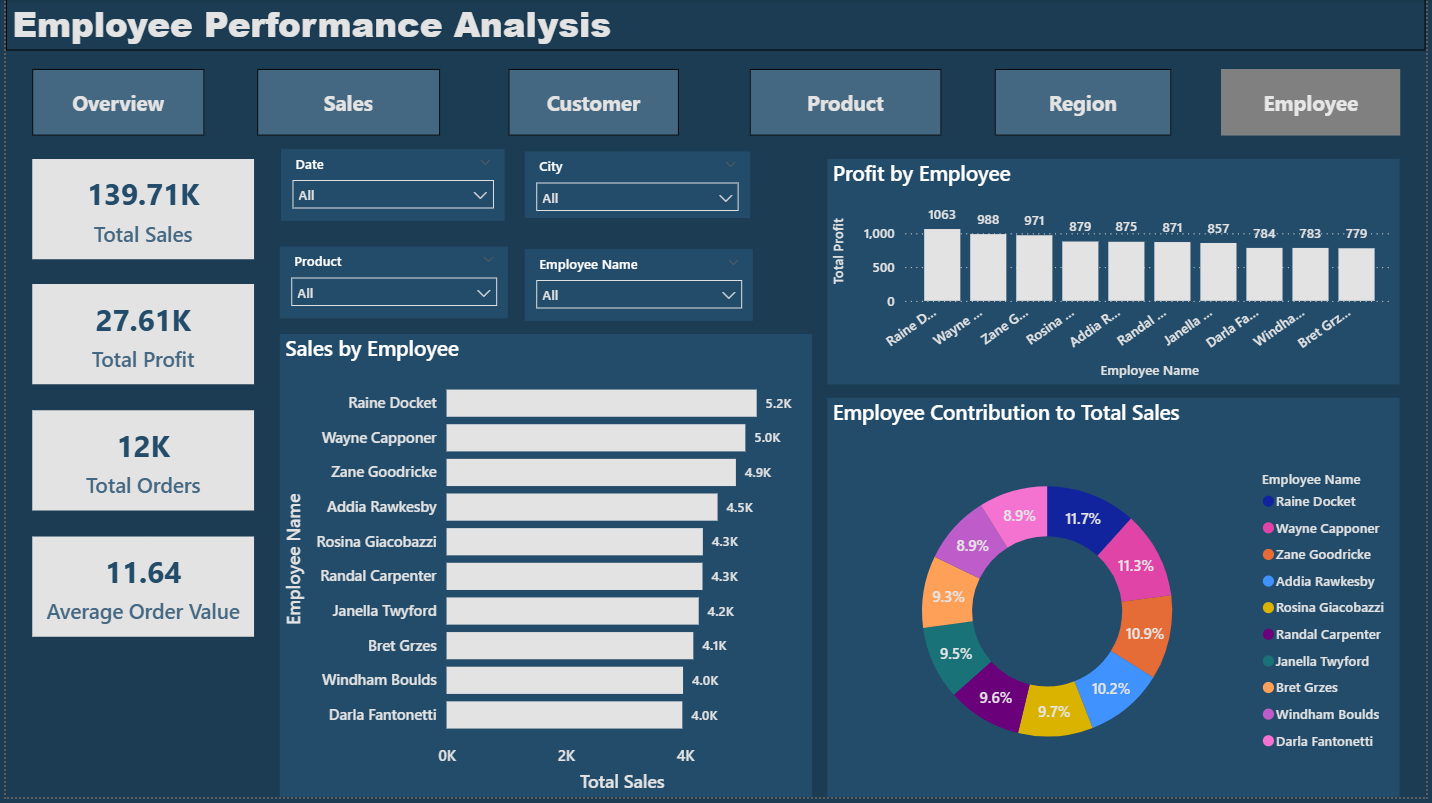

What the dashboard file says about the page in this screenshot:
{"tool":"powerbi","page":{"name":"Employee Dashboard","canvas":[1280,720],"ordinal":5},"visuals":[{"type":"actionButton","box":[226.4,63.1,164.7,60.4],"z":0},{"type":"actionButton","box":[452.8,63.1,153.7,60.4],"z":1000},{"type":"actionButton","box":[671,63.1,172.9,60.4],"z":2000},{"type":"actionButton","box":[891.9,63.1,159.2,60.4],"z":3000},{"type":"textbox","title":"Employee Performance Analysis","box":[0,0,1280.3,46.7],"z":4000},{"type":"card","fields":{"Values":["sales.Total Sales"]},"box":[23.3,144.1,200.3,90],"z":5000},{"type":"card","fields":{"Values":["sales.Total Orders"]},"box":[23.3,370.5,200.3,90.6],"z":6000},{"type":"card","fields":{"Values":["sales.Total Profit"]},"box":[23.3,256.6,200.3,90.6],"z":7000},{"type":"clusteredBarChart","title":"Sales by Employee","fields":{"Y":["sales.Total Sales"],"Category":["employee.name"]},"box":[247,301.9,480.3,418.5],"z":8000},{"type":"clusteredColumnChart","title":"Profit by Employee","fields":{"Y":["sales.Total Profit"],"Category":["employee.name"]},"box":[741,144.1,516,203.1],"z":9000},{"type":"actionButton","title":"Over","box":[23.2,63.6,155.3,59.9],"z":10000},{"type":"donutChart","title":"Employee Contribution to Total Sales","fields":{"Y":["sales.Total Sales"],"Category":["employee.name"]},"box":[741,359.5,516,360.9],"z":11000},{"type":"actionButton","box":[1095,63.1,161.9,60.4],"z":12000},{"type":"card","fields":{"Values":["sales.Average Order Value"]},"box":[23.3,484.4,200.3,90.6],"z":13000},{"type":"slicer","fields":{"Values":["sales.date"]},"box":[247.9,134.8,201.7,64.5],"z":14000},{"type":"slicer","fields":{"Values":["location.city"]},"box":[467.9,137.2,203.1,60.4],"z":15000},{"type":"slicer","fields":{"Values":["products.product"]},"box":[247,223.7,205.8,64.5],"z":16000},{"type":"slicer","fields":{"Values":["employee.name"]},"box":[467.9,225,205.8,64.5],"z":17000}]}

Visuals, with their boxes in screenshot pixels (x1, y1, x2, y2), scaled from the page's 1280x720 canvas onto the 1432x803 screenshot:
actionButton: 253:70:438:138
actionButton: 507:70:679:138
actionButton: 751:70:944:138
actionButton: 998:70:1176:138
"Employee Performance Analysis" textbox: 0:0:1431:52
card - sales.Total Sales: 26:161:250:261
card - sales.Total Orders: 26:413:250:514
card - sales.Total Profit: 26:286:250:387
"Sales by Employee" clusteredBarChart: 276:337:814:802
"Profit by Employee" clusteredColumnChart: 829:161:1406:387
"Over" actionButton: 26:71:200:138
"Employee Contribution to Total Sales" donutChart: 829:401:1406:802
actionButton: 1225:70:1406:138
card - sales.Average Order Value: 26:540:250:641
slicer - sales.date: 277:150:503:222
slicer - location.city: 523:153:751:220
slicer - products.product: 276:249:507:321
slicer - employee.name: 523:251:754:323
